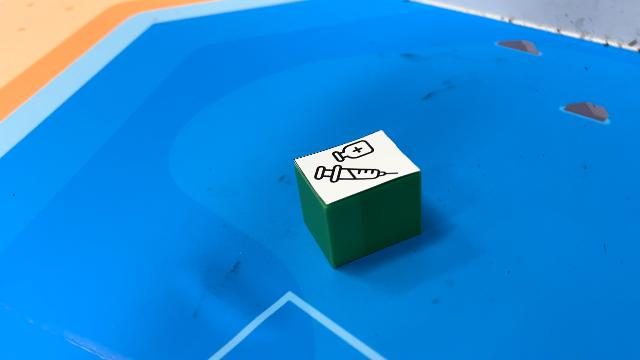syringe: (293, 129, 423, 269)
